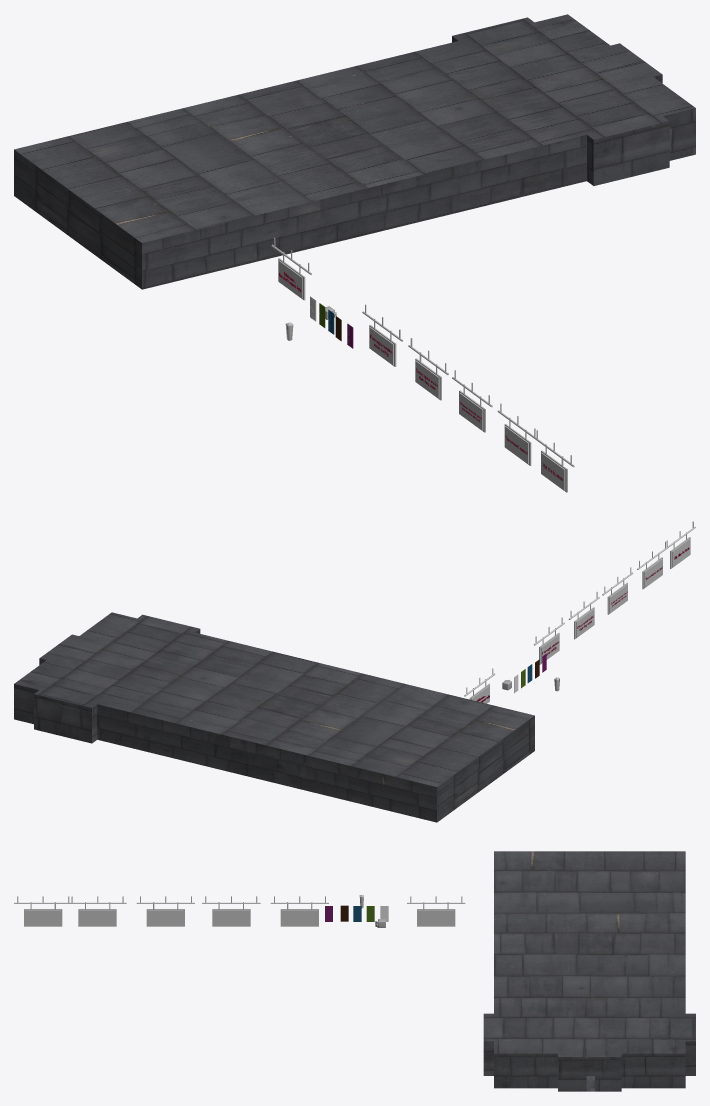
The model's file is Stage_01_models.fbx.
The picture shows the model from 3 angles, top to bottom: view 1: azimuth 30°, elevation 25°; view 2: azimuth 150°, elevation 25°; view 3: azimuth 270°, elevation 25°; orthographic projection. The views are drawn at different scales.
Visible parts, largest first — view 1: lv_01, Panel3, Panel1, Panel5, Panel2, Panel6, Panel4; view 2: lv_01, Panel4, Panel2, Panel6, Panel5, Panel1; view 3: lv_01, Panel3, Panel6, Panel5, Panel2, Panel1, Panel4.
Boxes of the visible parts, x1,y1,x2,y2 form: lv_01: [14, 14, 695, 289]; Panel3: [271, 237, 311, 300]; Panel1: [362, 304, 403, 366]; Panel5: [497, 403, 536, 465]; Panel2: [408, 338, 448, 400]; Panel6: [534, 430, 574, 492]; Panel4: [452, 370, 492, 432]; lv_01: [14, 612, 534, 822]; Panel4: [602, 567, 633, 614]; Panel2: [568, 591, 599, 639]; Panel6: [666, 521, 695, 568]; Panel5: [637, 541, 668, 589]; Panel1: [534, 617, 564, 664]; lv_01: [483, 851, 695, 1091]; Panel3: [407, 896, 465, 926]; Panel6: [14, 896, 71, 926]; Panel5: [68, 896, 126, 926]; Panel2: [202, 896, 260, 926]; Panel1: [270, 896, 328, 926]; Panel4: [136, 896, 194, 926].
Bounding box in the file's own units: 3807 × 301 × 5336.
